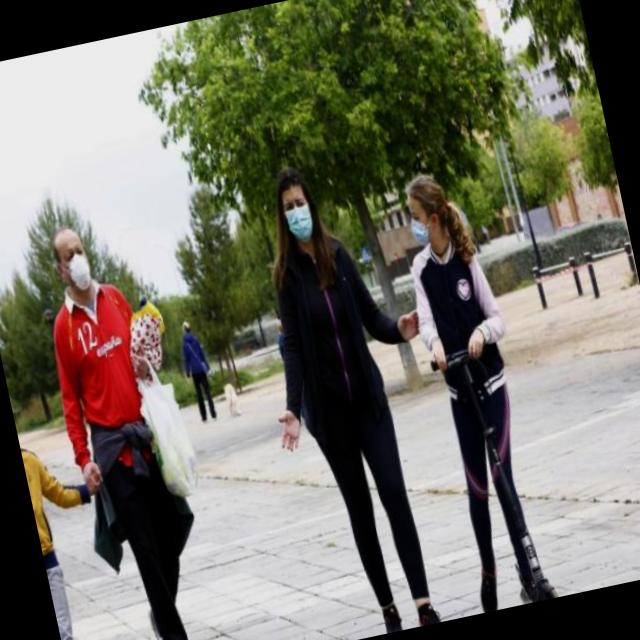person: (201, 117, 491, 640), (0, 193, 233, 640), (360, 144, 570, 618), (3, 353, 156, 640), (154, 292, 234, 454)
